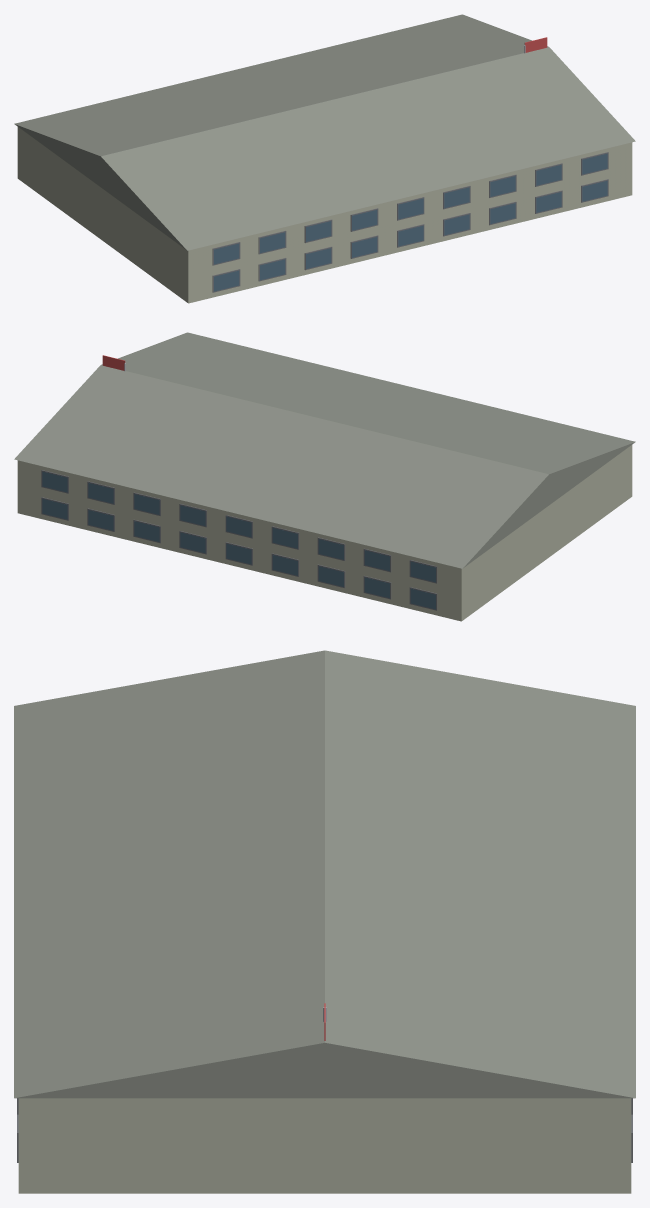
File: barracks.glb
3 views of the same model, one above another, from view 1: azimuth 30°, elevation 25°; view 2: azimuth 150°, elevation 25°; view 3: azimuth 270°, elevation 25° (orthographic). The views are drawn at different scales.
Visible parts, largest first — view 1: m, Cube, Cube.002, Cube.001; view 2: m, Cube, Cube.002, Cube.001; view 3: m, Cube.
Part boxes in pixels (x1,y1,x2,y2): m: (14, 14, 635, 250); Cube: (17, 127, 632, 303); Cube.002: (214, 153, 607, 291); Cube.001: (212, 152, 608, 292); m: (14, 332, 635, 568); Cube: (17, 445, 632, 621); Cube.002: (42, 471, 435, 609); Cube.001: (41, 470, 437, 610); m: (14, 650, 635, 1098); Cube: (18, 1098, 631, 1193).
Size of the model in its own units: 60.6 by 12.3 by 40.6.
